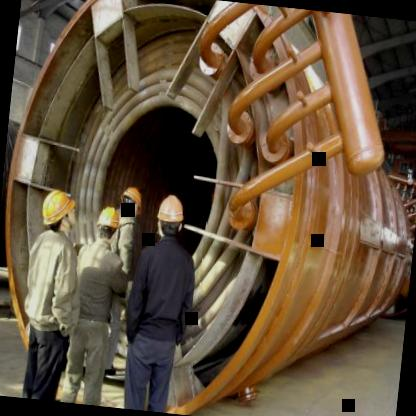helmet: (150, 190, 188, 246), (39, 188, 78, 238), (94, 204, 122, 245), (118, 184, 144, 219)
